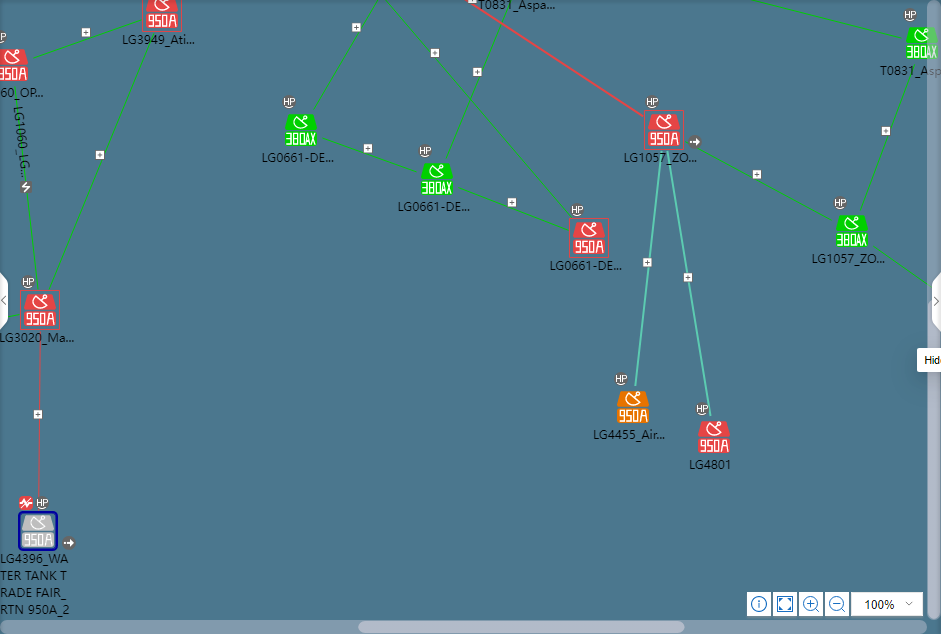Link_Blue: (665, 151, 713, 417), (633, 151, 663, 388)
Link_Green: (383, 0, 573, 217), (47, 33, 157, 290), (691, 142, 833, 223), (444, 0, 514, 160), (856, 64, 919, 211), (750, 0, 902, 40), (13, 88, 40, 289), (458, 186, 568, 232), (31, 16, 141, 61), (321, 135, 416, 175), (872, 245, 927, 288)
Link_Red: (462, 0, 643, 119), (36, 332, 42, 511)
RTN_Gray: (20, 514, 56, 551)
RTN_Green: (835, 215, 867, 247), (421, 163, 452, 195), (285, 114, 316, 145), (906, 27, 936, 59)
RTN_Orange: (617, 392, 648, 423)
RTN_Red: (644, 112, 681, 149), (20, 291, 58, 327), (571, 221, 605, 254), (144, 0, 179, 30), (698, 422, 729, 453)
